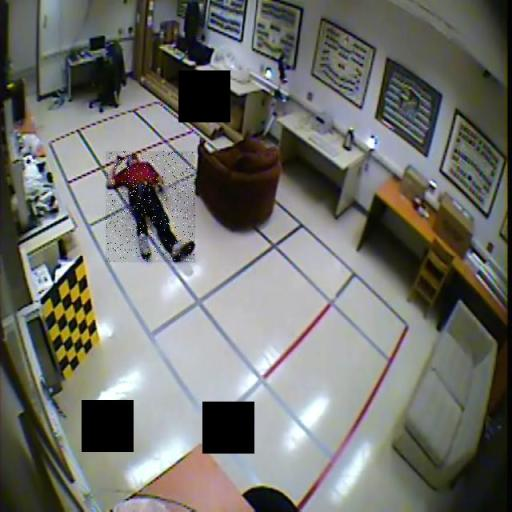Fall: (106, 152, 195, 263)
